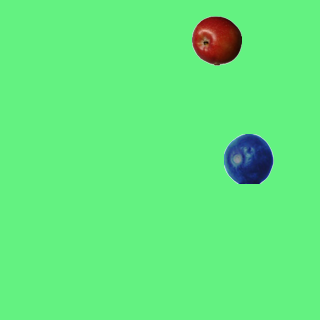Apple Braeburn: (191, 15, 241, 65)
Huckleberry: (223, 133, 273, 183)
